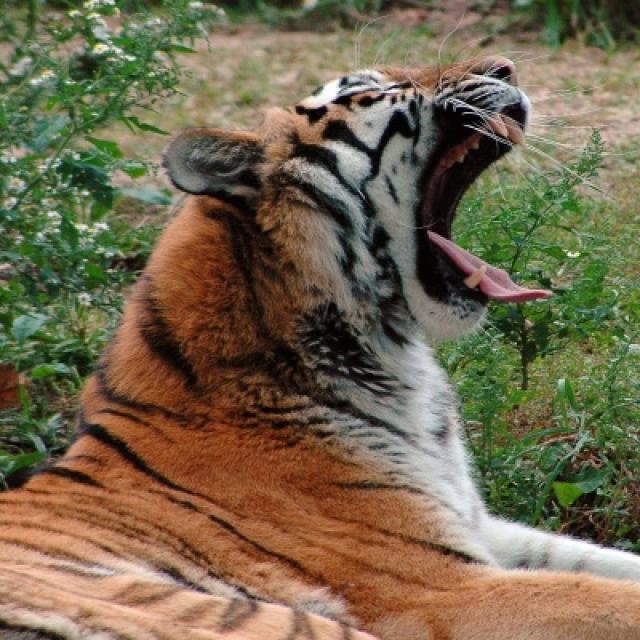Tiger: (0, 61, 638, 638)
